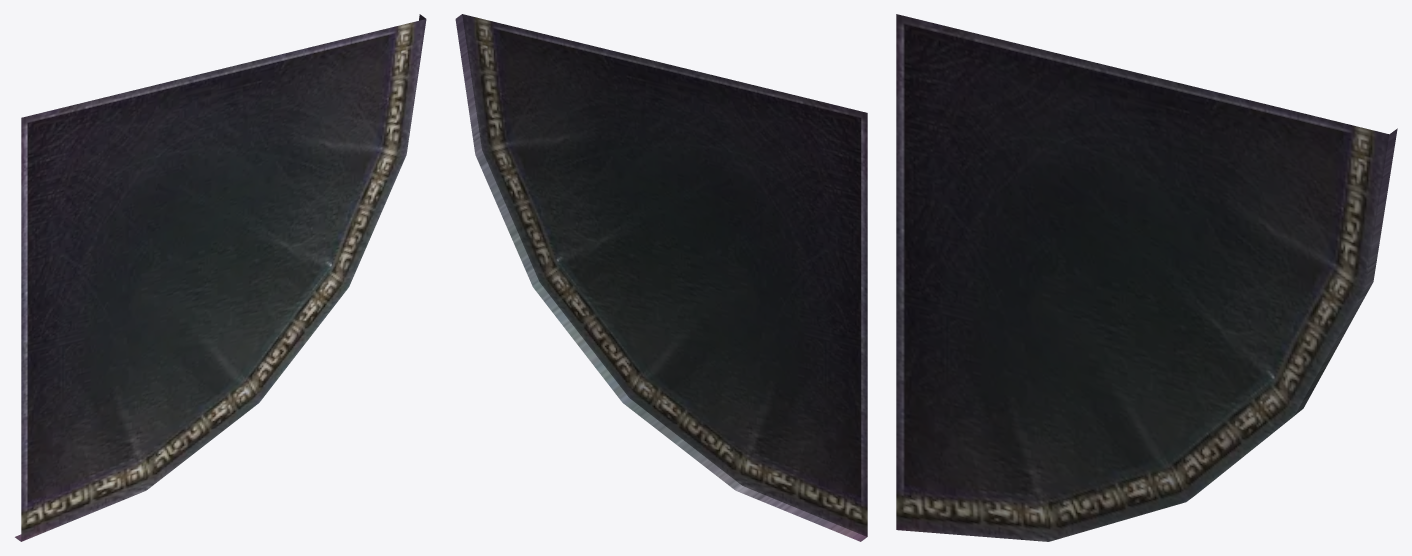
3 renders of one model, left to right at view 1: azimuth 30°, elevation 25°; view 2: azimuth 150°, elevation 25°; view 3: azimuth 330°, elevation 25°, orthographic. The views are drawn at different scales.
Visible parts, largest first — view 1: model_Object116; view 2: model_Object116; view 3: model_Object116.
Part boxes in pixels (<box>): model_Object116: <box>15,14,426,541</box>; model_Object116: <box>455,14,867,541</box>; model_Object116: <box>896,14,1397,541</box>.
Size of the model in its own units: 3.98 by 3.98 by 0.1142.
Materials: 1 (1 with a texture image).
